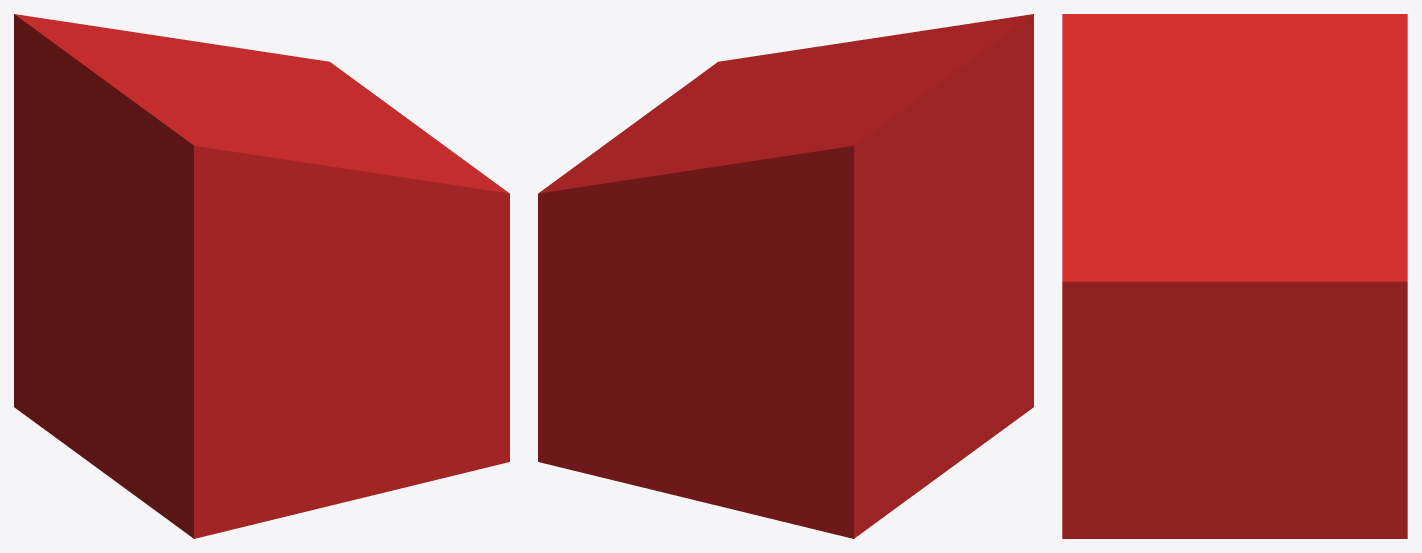
3 renders of one model, left to right at view 1: azimuth 30°, elevation 25°; view 2: azimuth 150°, elevation 25°; view 3: azimuth 270°, elevation 25°, orthographic. The views are drawn at different scales.
Bounding box in the file's own units: 10.2 × 12.14 × 10.08.
